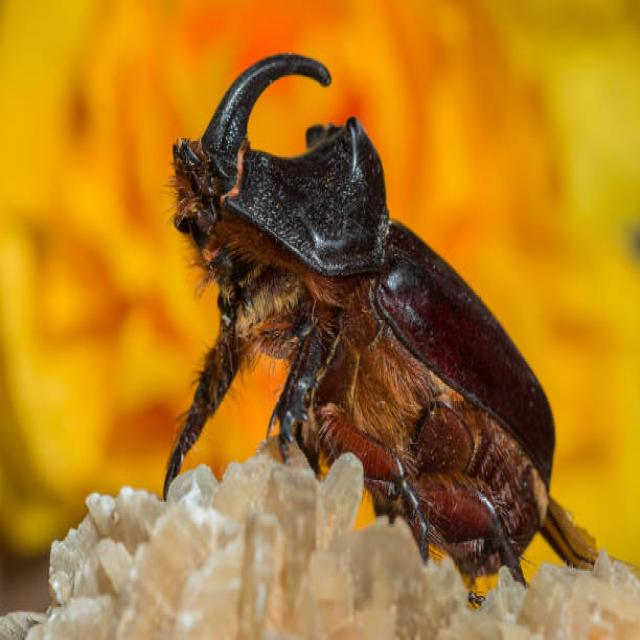Rhino-beetle: (136, 37, 584, 585)
